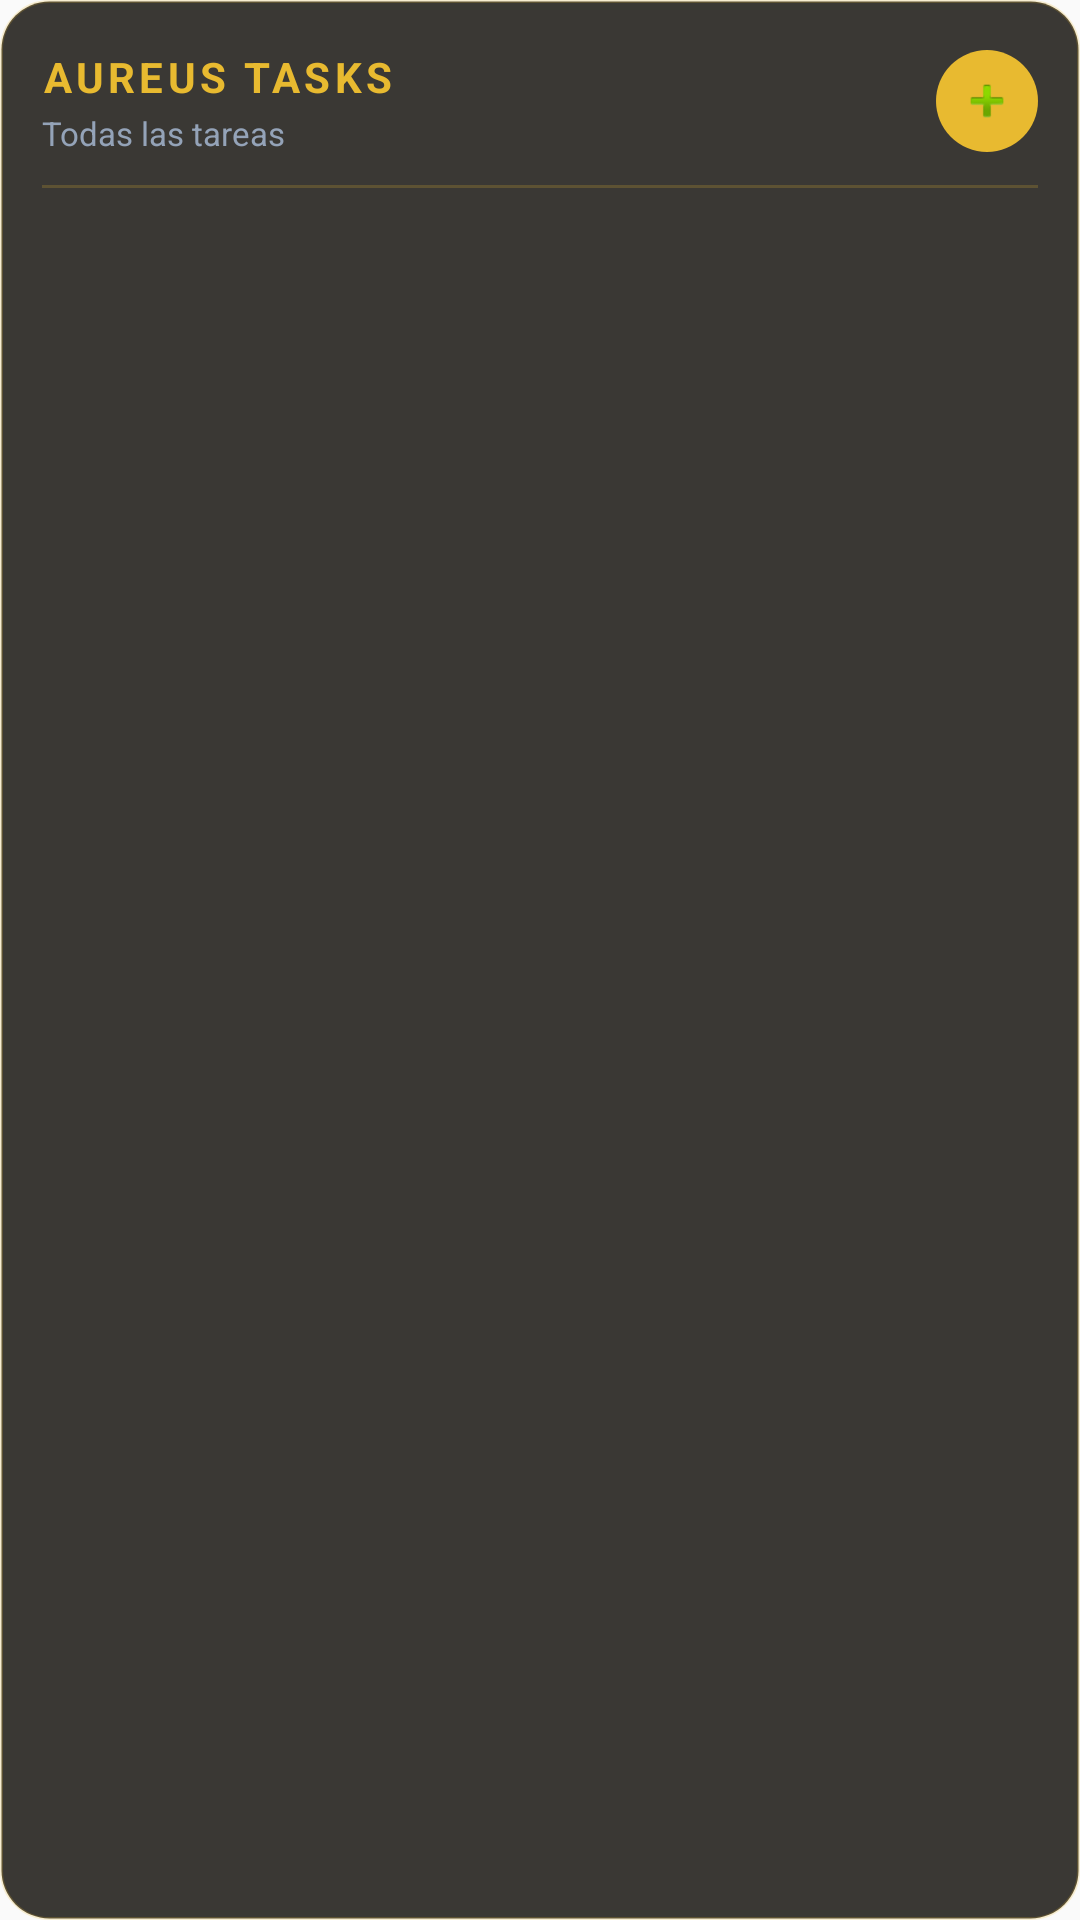

Icons on this 1080 x 1920 Android screen, each with its box as (x1, y1, x2, y2):
Agregar tarea: (936, 50, 1038, 152)
